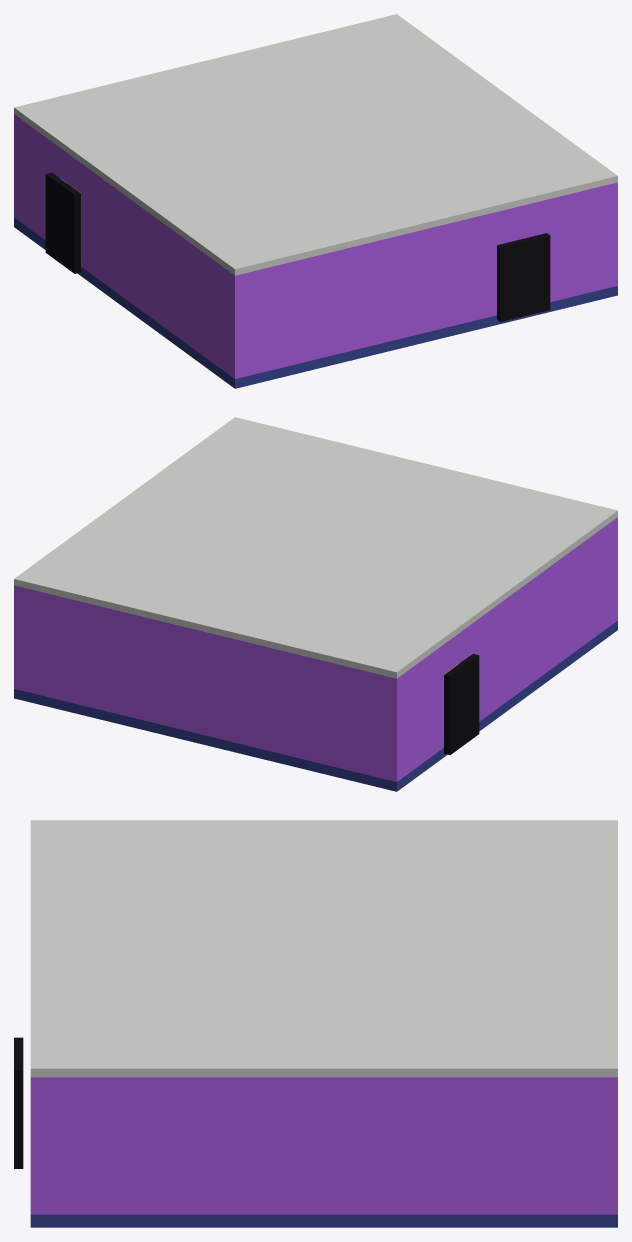
File: rdwe_lights_out.glb
3 renders of one model, top to bottom at view 1: azimuth 30°, elevation 25°; view 2: azimuth 150°, elevation 25°; view 3: azimuth 270°, elevation 25°, orthographic. The views are drawn at different scales.
Visible parts, largest first — view 1: Room_Ceiling, Room_Wall_S_1, Room_Wall_W_3, Room_Wall_S_3, Room_Floor, Beyond_three, Room_Wall_W_1, Beyond_void, Room_Wall_S_2, Room_Wall_W_2; view 2: Room_Ceiling, Room_Wall_N_1, Room_Wall_W_3, Room_Floor, Room_Wall_W_1, Beyond_void, Room_Wall_W_2; view 3: Room_Ceiling, Room_Wall_E_1, Room_Floor, Room_Wall_N_1, Room_Wall_S_3, Beyond_three.
Boxes of the visible parts, bbox=[...] form: Room_Ceiling: bbox=[14, 14, 617, 275]; Room_Wall_S_1: bbox=[231, 211, 501, 378]; Room_Wall_W_3: bbox=[81, 163, 231, 376]; Room_Wall_S_3: bbox=[537, 182, 617, 302]; Room_Floor: bbox=[14, 217, 617, 388]; Beyond_three: bbox=[497, 233, 550, 321]; Room_Wall_W_1: bbox=[17, 117, 66, 240]; Beyond_void: bbox=[45, 172, 80, 273]; Room_Wall_S_2: bbox=[501, 202, 536, 243]; Room_Wall_W_2: bbox=[60, 148, 81, 192]; Room_Ceiling: bbox=[14, 417, 617, 678]; Room_Wall_N_1: bbox=[14, 585, 400, 781]; Room_Wall_W_3: bbox=[458, 520, 614, 721]; Room_Floor: bbox=[14, 620, 617, 791]; Room_Wall_W_1: bbox=[400, 645, 443, 779]; Beyond_void: bbox=[444, 654, 479, 755]; Room_Wall_W_2: bbox=[443, 630, 464, 673]; Room_Ceiling: bbox=[30, 820, 617, 1077]; Room_Wall_E_1: bbox=[40, 1077, 608, 1214]; Room_Floor: bbox=[30, 1214, 617, 1227]; Room_Wall_N_1: bbox=[608, 1077, 617, 1214]; Room_Wall_S_3: bbox=[30, 1077, 39, 1214]; Beyond_three: bbox=[14, 1037, 23, 1168].
Size of the model in its own units: 12.75 by 3.7 by 12.75.
